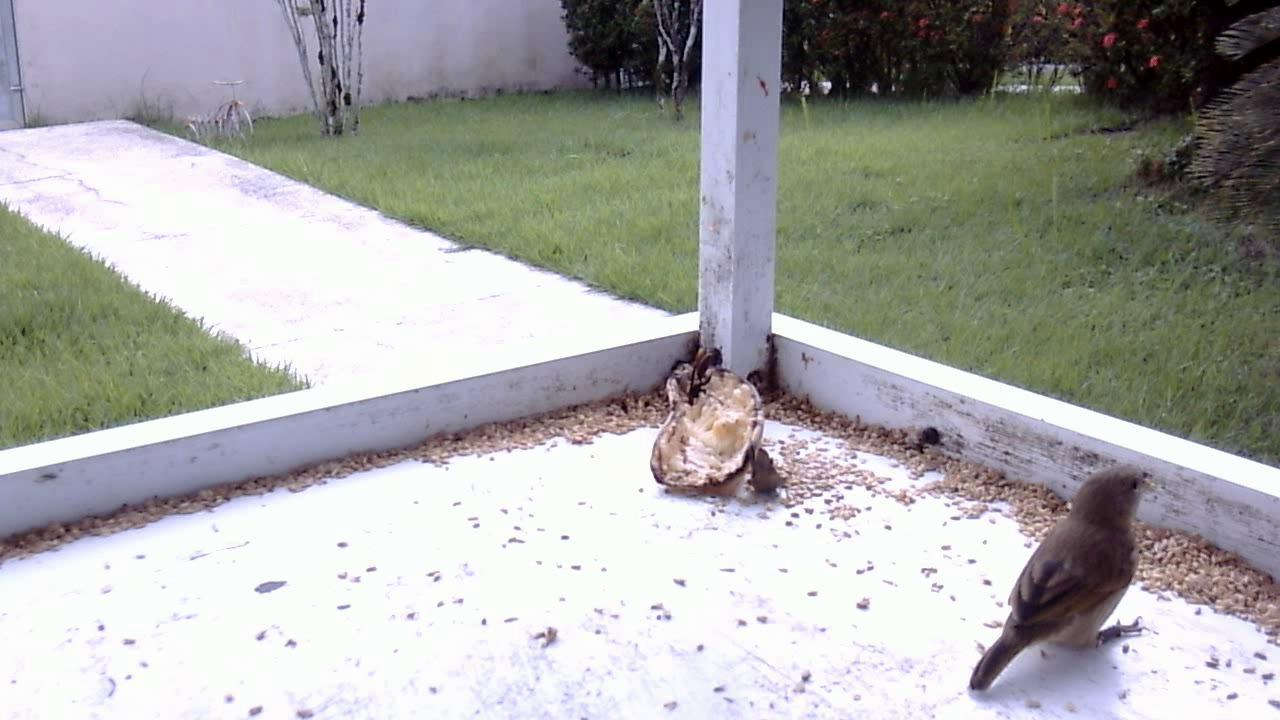canario_do_amazonas: (960, 458, 1160, 697)
